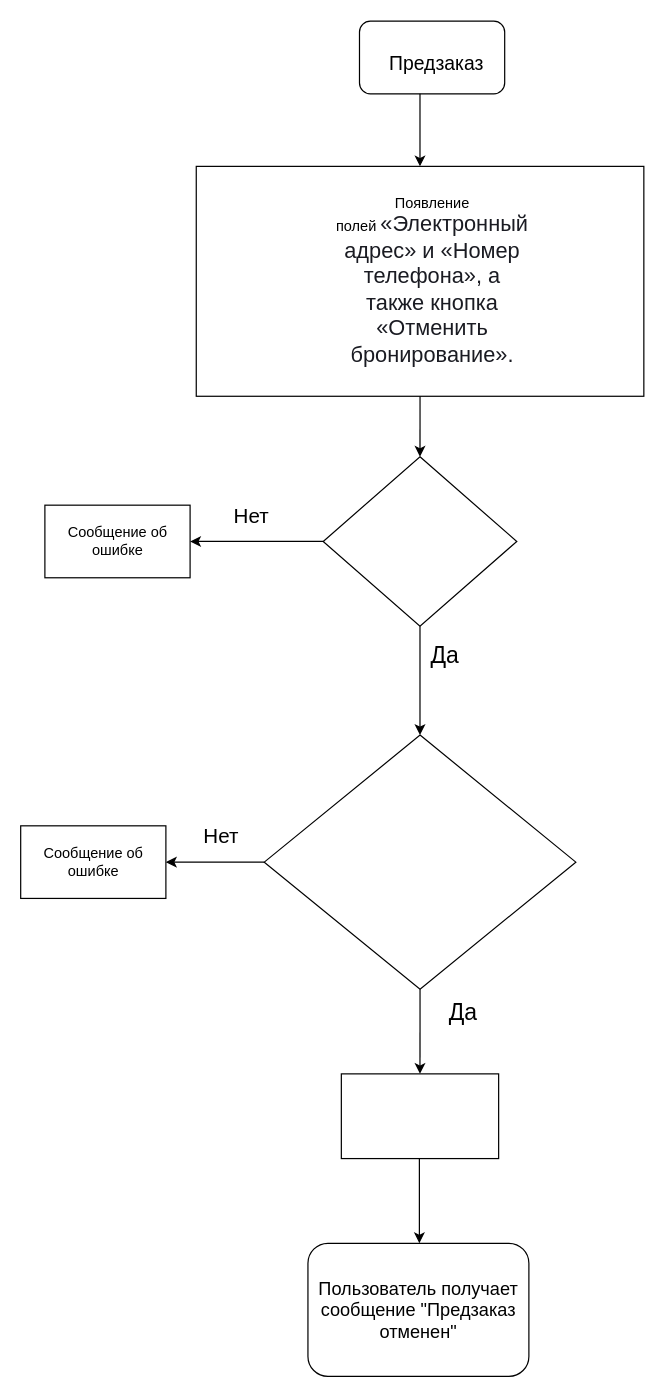
This 666x1398 diagram has some shape labels left out. Each missing label, with the centre of its shape:
есть ли такой электронный адрес и номер телефона в базе данных?: [419,861]
Поля заполнены верно?: [419,541]
сообщение об отмене предзаказа: [419,1116]
